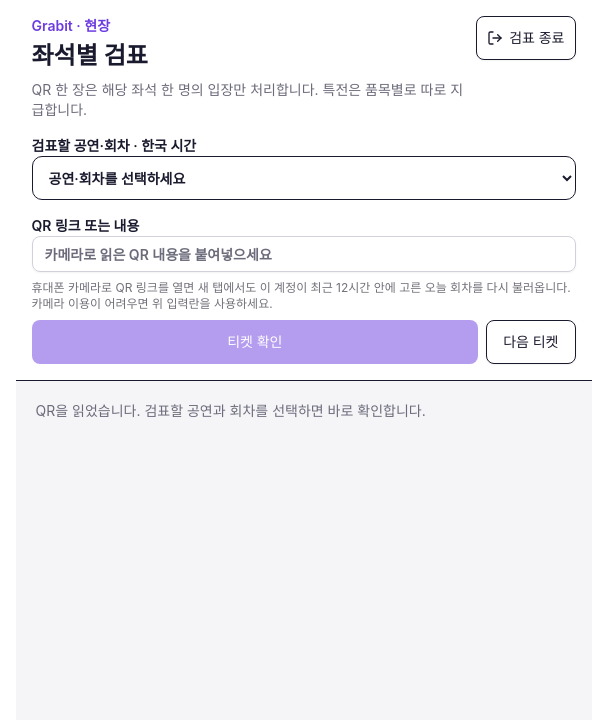
FieldCheckInPage camera tab showtime persistence (#39) › does not restore an expired choice and keeps the scanned QR until a showtime is picked
The width and height of the screenshot is (609, 720).
Expected: the text "QR을 읽었습니다. 검표할 공연과 회차를 선택하면 바로 확인합니다." is shown, 36,402 -> 426,419
Select "저녁 공연 · 10/03(토) 19:00 KST" in the dropdown labelled "검표할 공연·회차" at (304, 178), box 32,156 -> 576,200
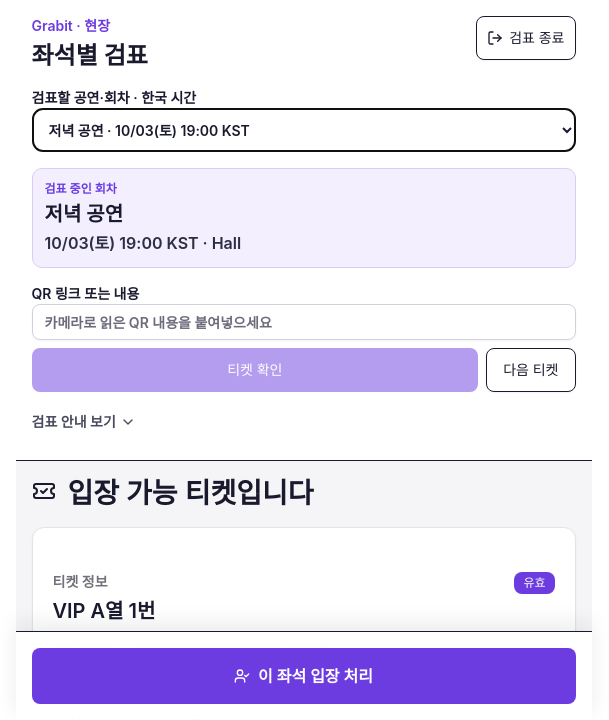
Now the button "이 좌석 입장 처리" is enabled, box 32,648 -> 576,704
